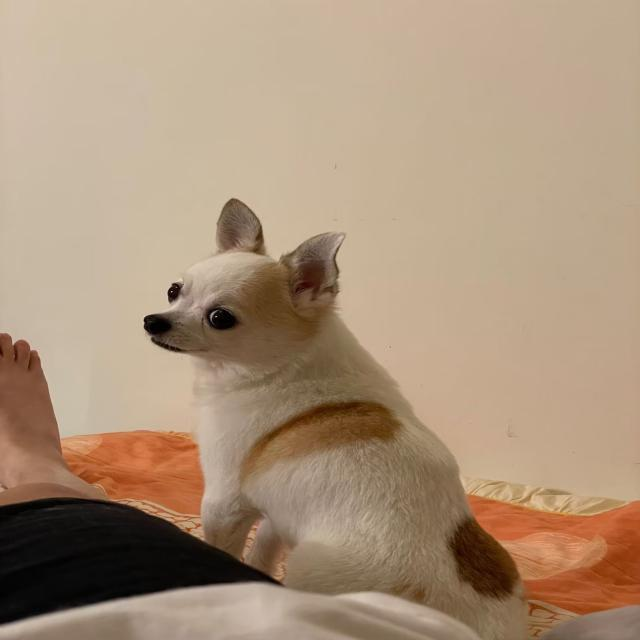adult_dog: (141, 197, 530, 640)
